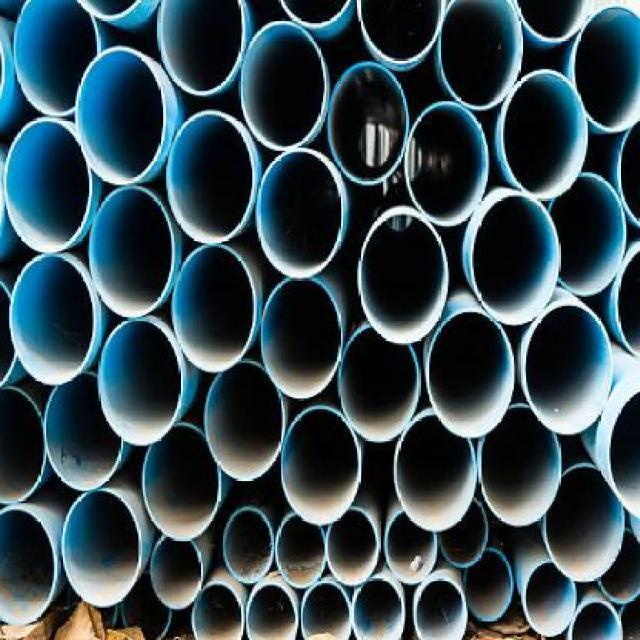pipe: (76, 47, 167, 184), (359, 208, 450, 344), (469, 191, 560, 324), (522, 303, 613, 436), (167, 110, 256, 243), (4, 118, 92, 252), (500, 69, 589, 200), (255, 148, 343, 279), (9, 255, 97, 384), (427, 309, 515, 437), (89, 186, 174, 317), (97, 318, 183, 447), (240, 21, 326, 150), (172, 244, 257, 372), (405, 103, 490, 227), (13, 0, 102, 117), (477, 405, 562, 527), (260, 278, 343, 400), (327, 63, 409, 186), (548, 172, 627, 297), (393, 412, 476, 530), (205, 358, 285, 480), (338, 325, 420, 443), (281, 405, 361, 524), (44, 373, 124, 491), (439, 0, 524, 111), (142, 423, 222, 540), (545, 464, 625, 581), (62, 490, 142, 607), (572, 5, 640, 134), (157, 0, 244, 95), (0, 506, 57, 626), (357, 0, 446, 65), (0, 388, 46, 503), (325, 506, 381, 586), (524, 559, 577, 636), (150, 535, 203, 611), (385, 512, 438, 586), (223, 508, 274, 584), (276, 513, 327, 589), (414, 574, 470, 639), (464, 547, 513, 620), (438, 499, 489, 567), (351, 576, 405, 639), (597, 528, 639, 604), (244, 582, 300, 639), (300, 580, 353, 639), (191, 580, 244, 639), (568, 600, 625, 639)
